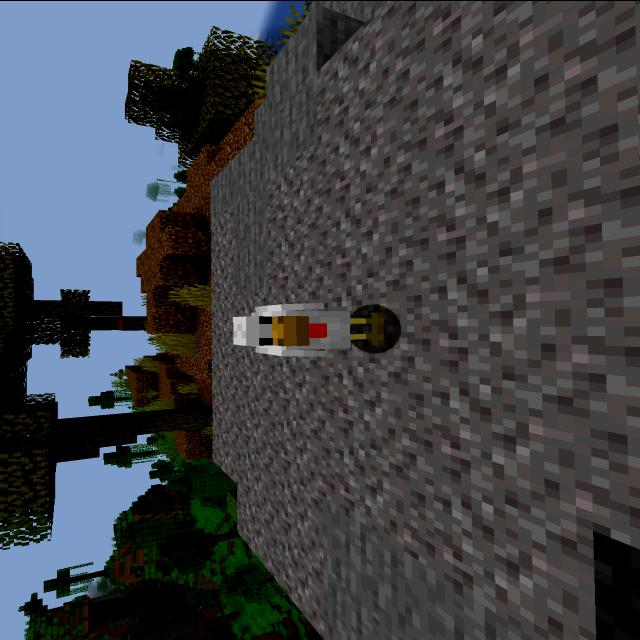chicken: (218, 298, 400, 362)
